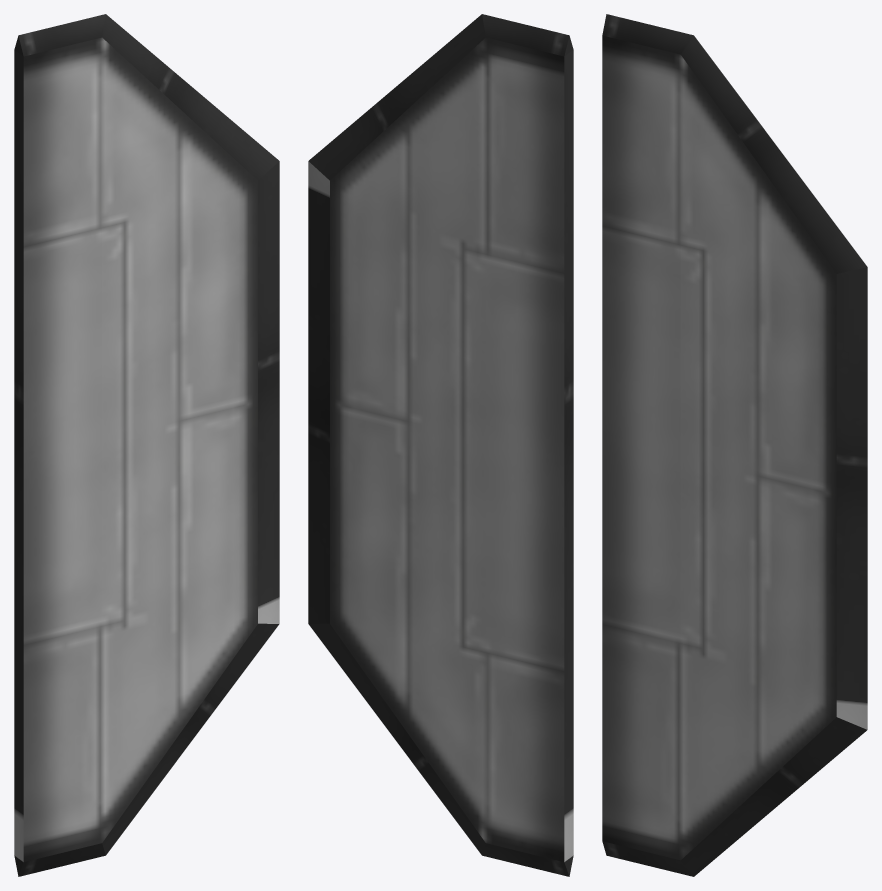
The model's file is earlyTrapezoidFin.dae.
3 views of the same model, side by side, from view 1: azimuth 30°, elevation 25°; view 2: azimuth 150°, elevation 25°; view 3: azimuth 330°, elevation 25° (orthographic).
Parts seen in each view (by area): view 1: pCube8; view 2: pCube8; view 3: pCube8.
Boxes of the visible parts, left/top/right/bottom form: pCube8: left=14, top=14, right=279, bottom=876; pCube8: left=308, top=14, right=573, bottom=876; pCube8: left=602, top=14, right=867, bottom=876.
Bounding box in the file's own units: 0.3962 × 1.22 × 0.0246.
